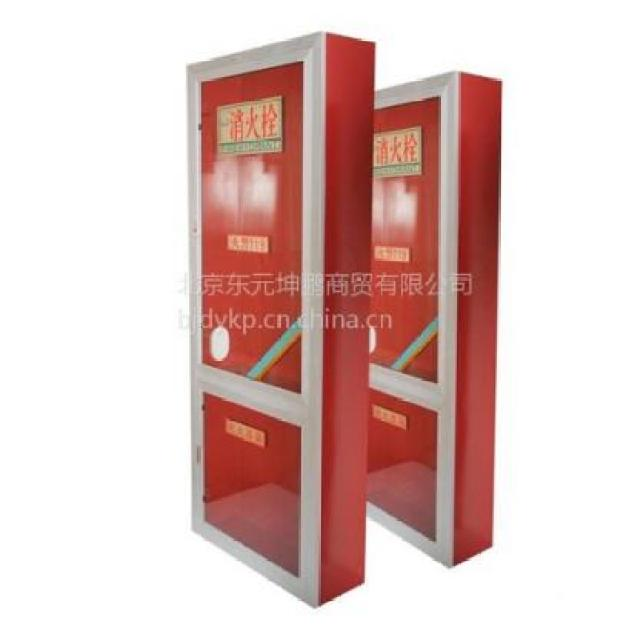firehydrant: (183, 24, 380, 612), (366, 65, 508, 572)
